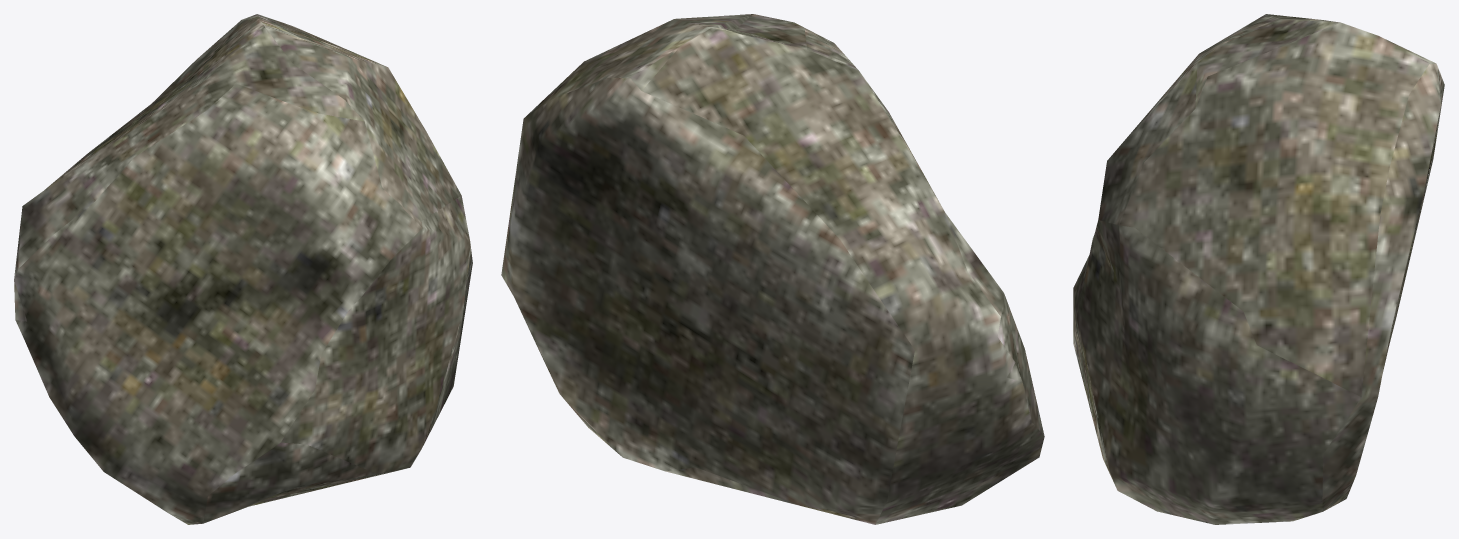
The model's file is SM_Small_Rock_04_LOD1.fbx.
The picture shows the model from 3 angles, left to right: view 1: azimuth 30°, elevation 25°; view 2: azimuth 150°, elevation 25°; view 3: azimuth 270°, elevation 25°; orthographic projection. The views are drawn at different scales.
Visible parts, largest first — view 1: SM_Small_Rock_04_LOD1; view 2: SM_Small_Rock_04_LOD1; view 3: SM_Small_Rock_04_LOD1.
Part boxes in pixels (x1=…): SM_Small_Rock_04_LOD1: x1=14, y1=14, x2=472, y2=524; SM_Small_Rock_04_LOD1: x1=501, y1=14, x2=1044, y2=524; SM_Small_Rock_04_LOD1: x1=1073, y1=14, x2=1444, y2=524.
Size of the model in its own units: 118 by 107 by 76.81.
